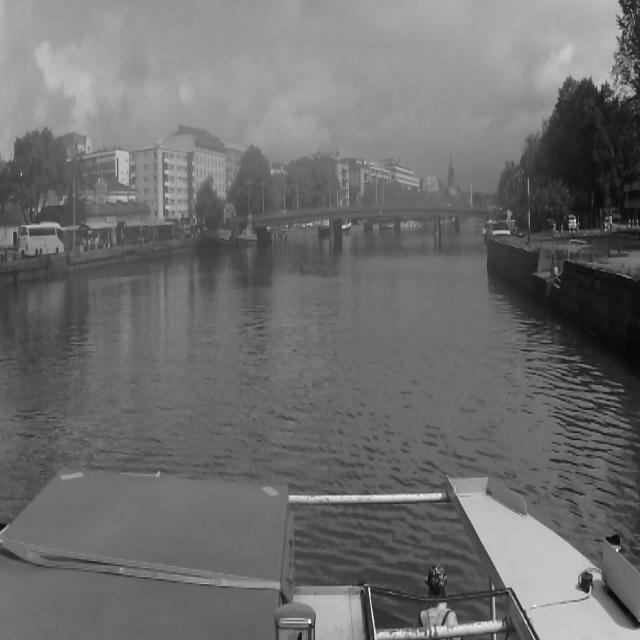ship: (205, 223, 231, 247), (240, 223, 258, 246)
